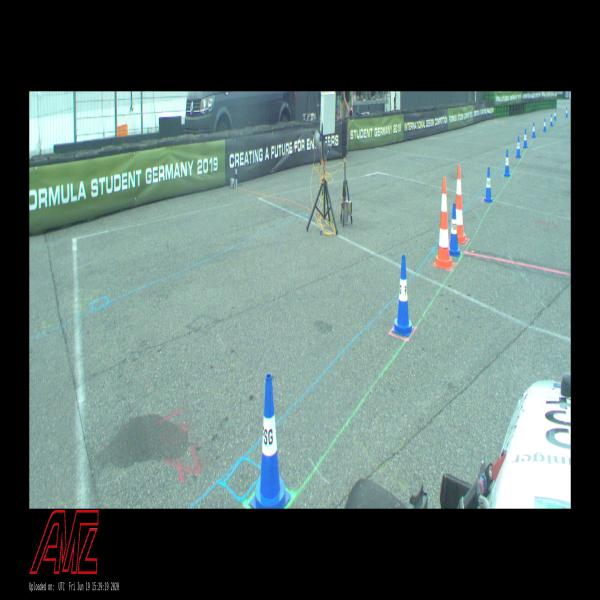blue_cone: (250, 374, 291, 508), (392, 255, 414, 337), (450, 204, 460, 258), (484, 167, 493, 203), (503, 150, 510, 177), (522, 129, 528, 148), (516, 136, 521, 158), (531, 122, 536, 138), (542, 118, 546, 132), (550, 115, 553, 126), (565, 108, 568, 117), (554, 110, 556, 120)
large_orange_cone: (433, 177, 454, 269), (456, 165, 467, 243)
